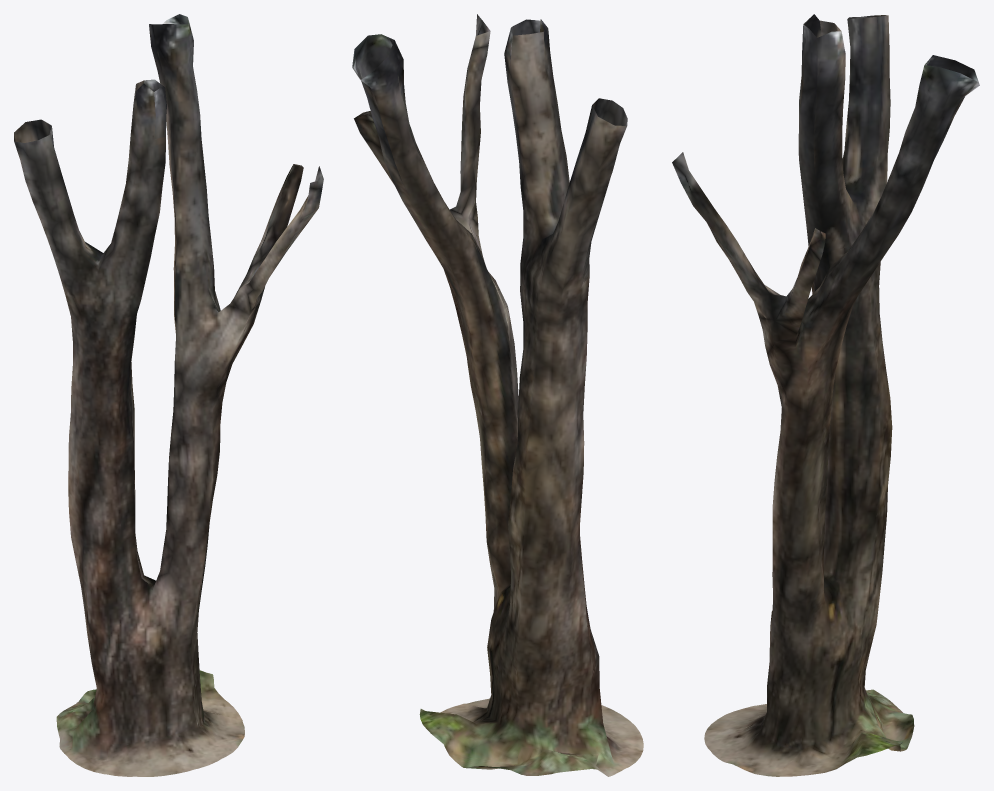
File: tree3.fbx
3 views of the same model, side by side, from view 1: azimuth 30°, elevation 25°; view 2: azimuth 150°, elevation 25°; view 3: azimuth 270°, elevation 25° (orthographic). The views are drawn at different scales.
Parts seen in each view (by area): view 1: 3DModel_Retopo; view 2: 3DModel_Retopo; view 3: 3DModel_Retopo.
Boxes of the visible parts, x1,y1,x2,y2 form: 3DModel_Retopo: (14, 14, 323, 776); 3DModel_Retopo: (352, 14, 643, 776); 3DModel_Retopo: (672, 14, 979, 776).
Bounding box in the file's own units: 88.34 × 208 × 79.63.
1 material, 1 textured.
